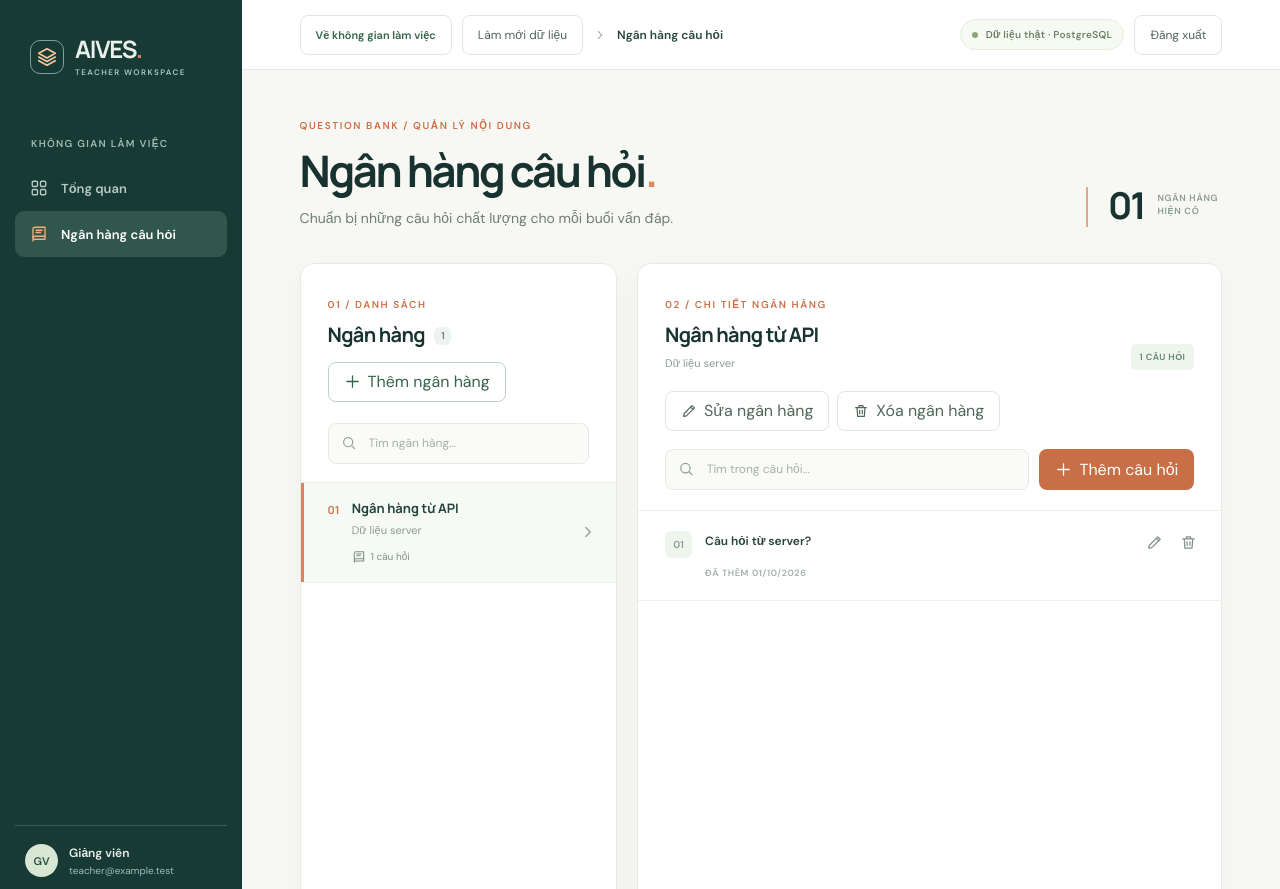
Scenario: Question Bank API-connected route › preserves the question form on server validation failure, then uses the returned entity
The image size is (1280, 889).
expect the text "Câu hỏi từ server?" is shown: met, box [705, 533, 811, 549]
Click the button "Thêm câu hỏi". click: (1117, 469)
box: [1039, 449, 1194, 490]
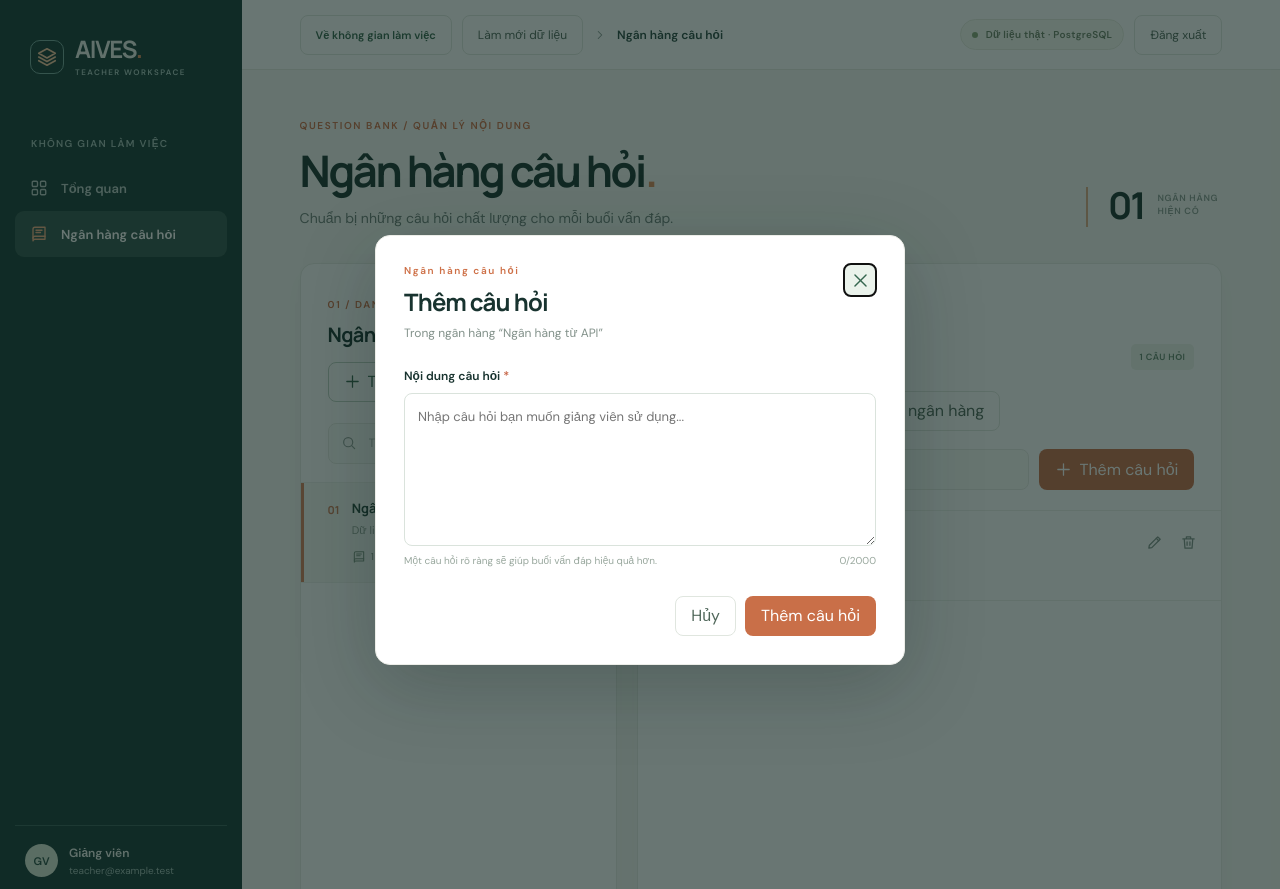
Type "Câu hỏi mới từ API" into the text box labelled "Nội dung câu hỏi *". click: (640, 470)
box: [404, 393, 876, 546]
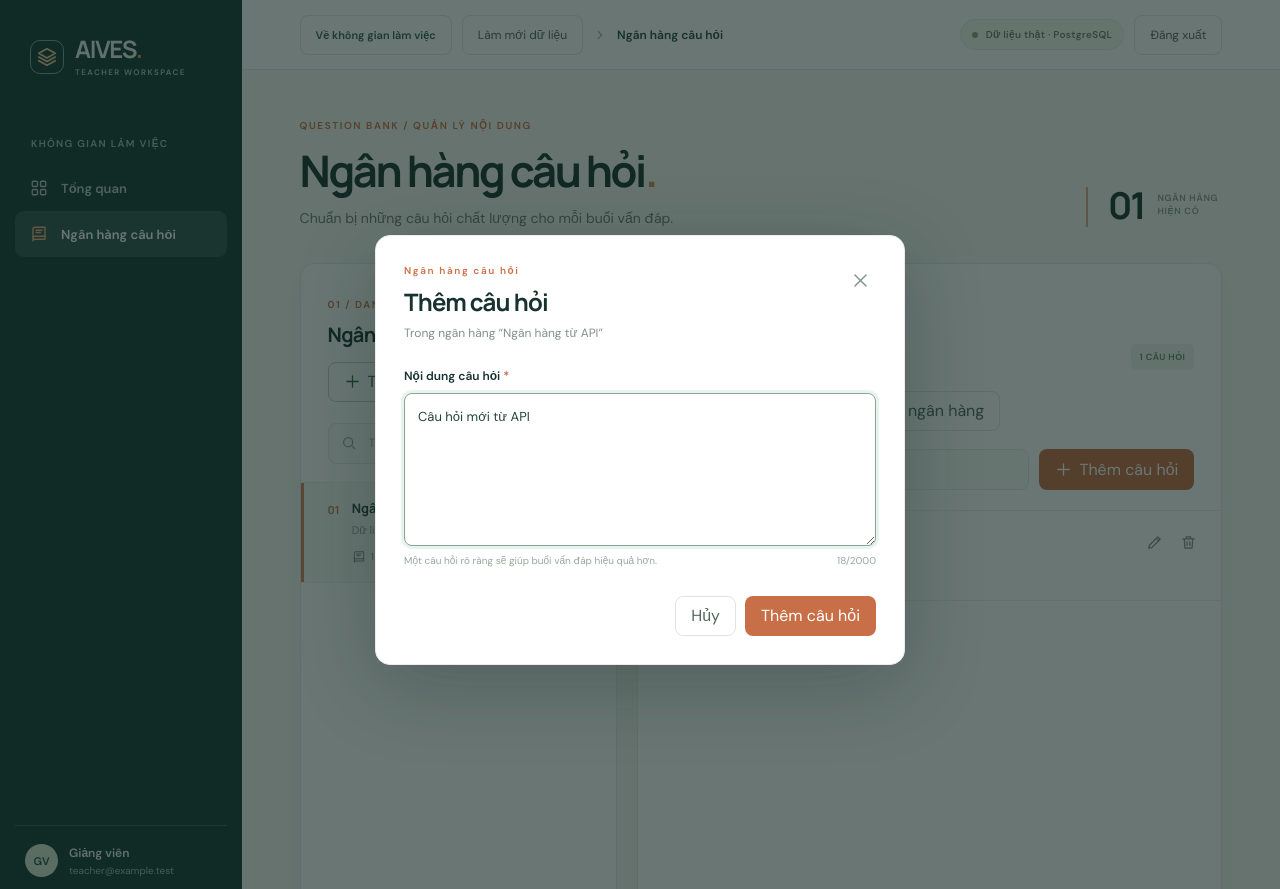
Click the button "Thêm câu hỏi". click: (810, 616)
box: [745, 596, 876, 636]
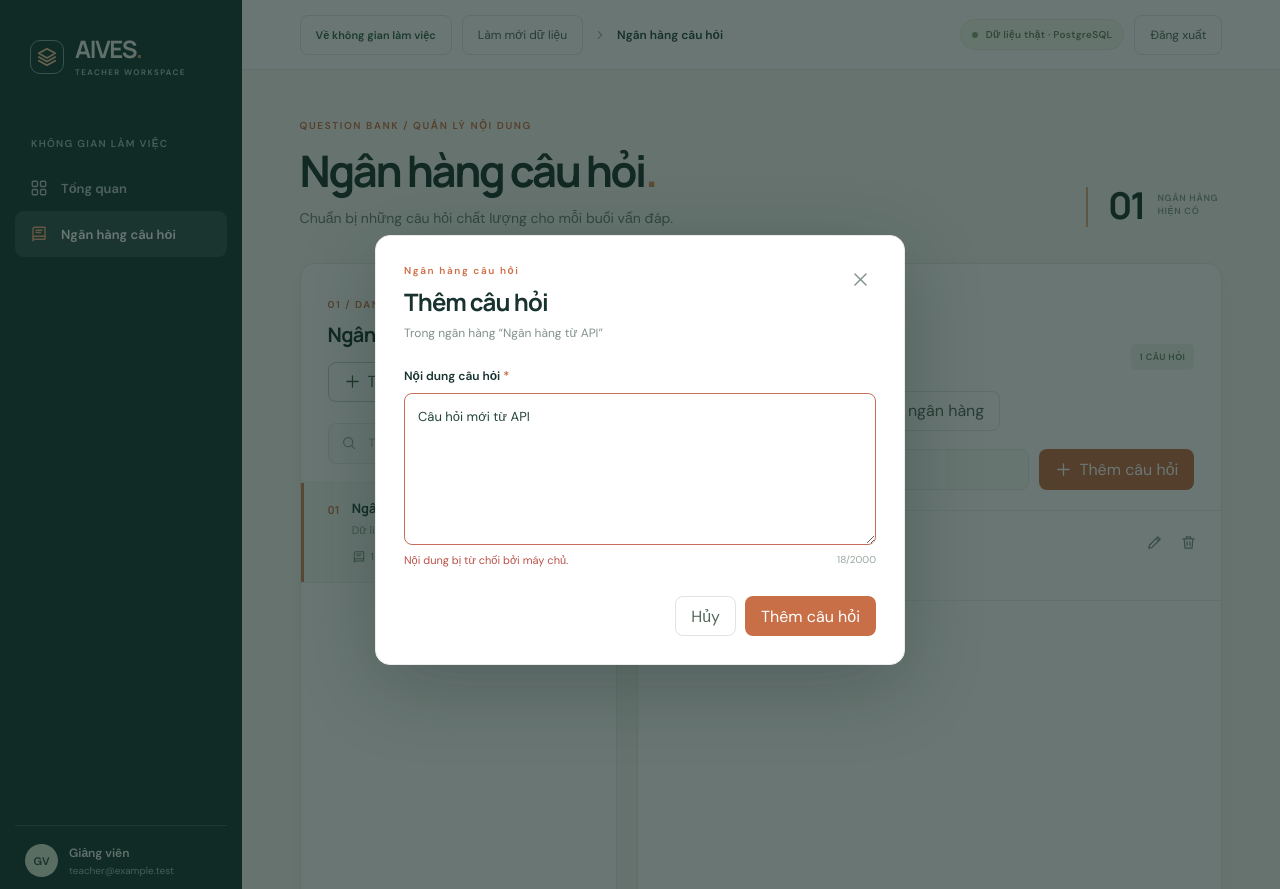
expect the dialog is shown: met, box [375, 235, 905, 665]
expect the text "Nội dung bị từ chối bởi máy chủ." is shown: met, box [404, 553, 568, 567]
Click the button "Thêm câu hỏi". click: (810, 616)
box: [745, 596, 876, 636]
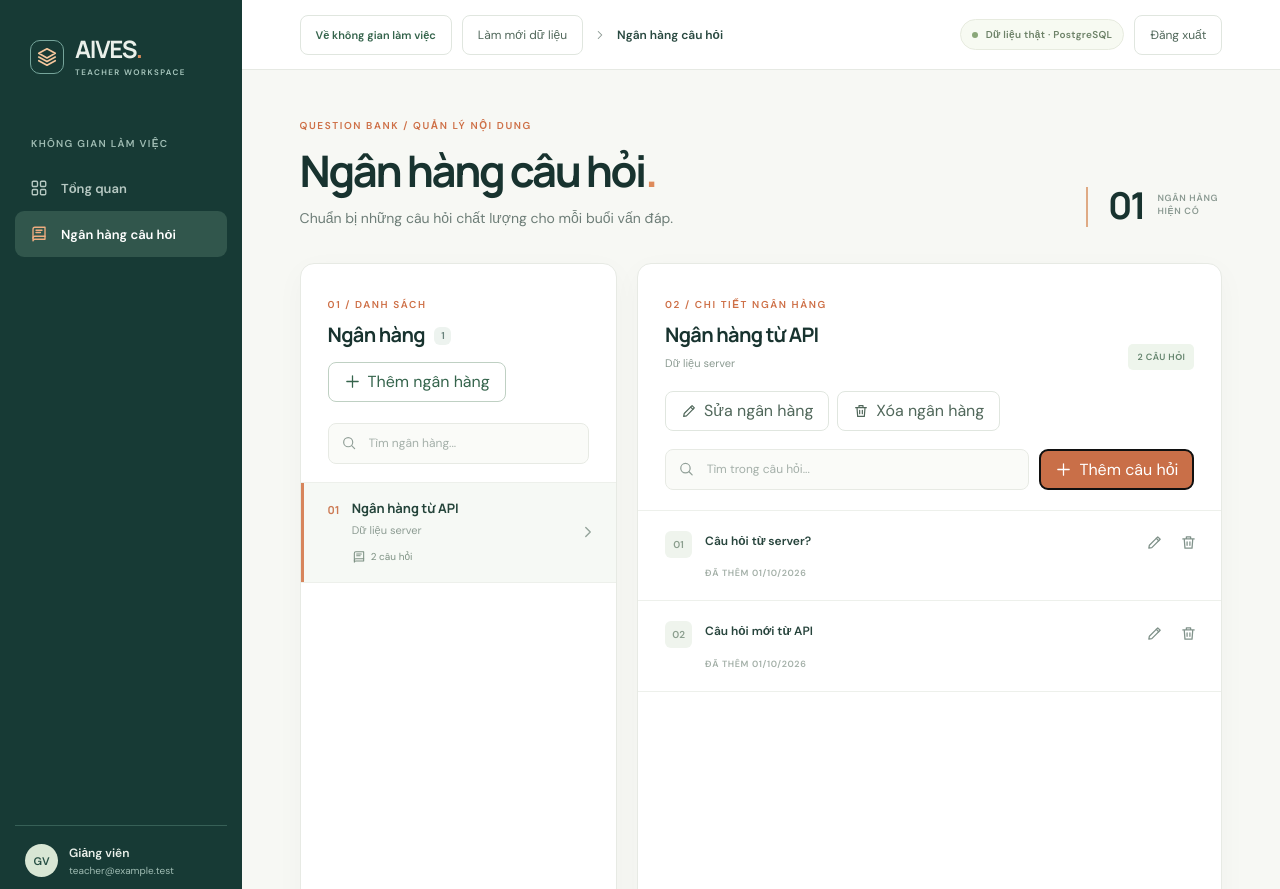
expect the dialog is gone: met
expect the text "Câu hỏi mới từ API" is shown: met, box [705, 623, 813, 639]
